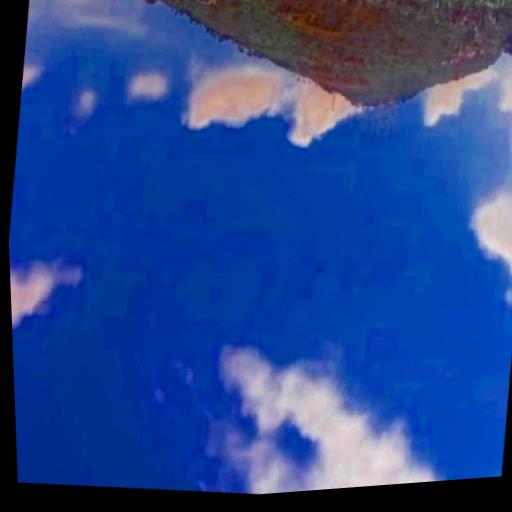drones: (313, 263, 327, 278)
